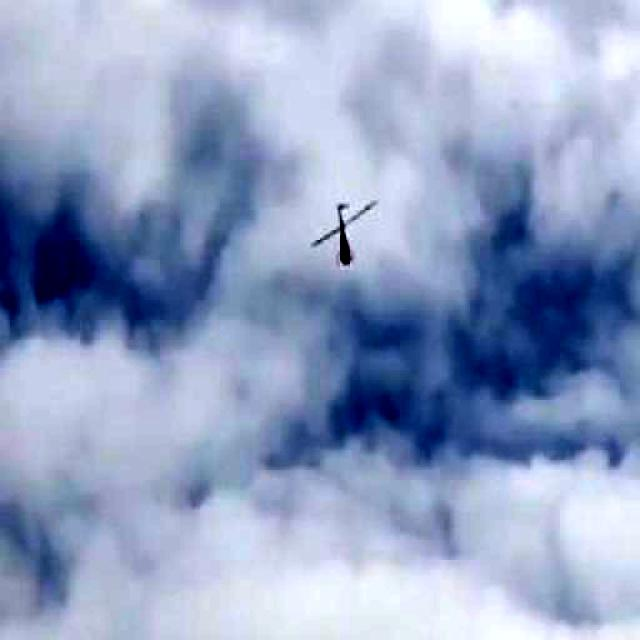drone: (290, 160, 398, 296)
